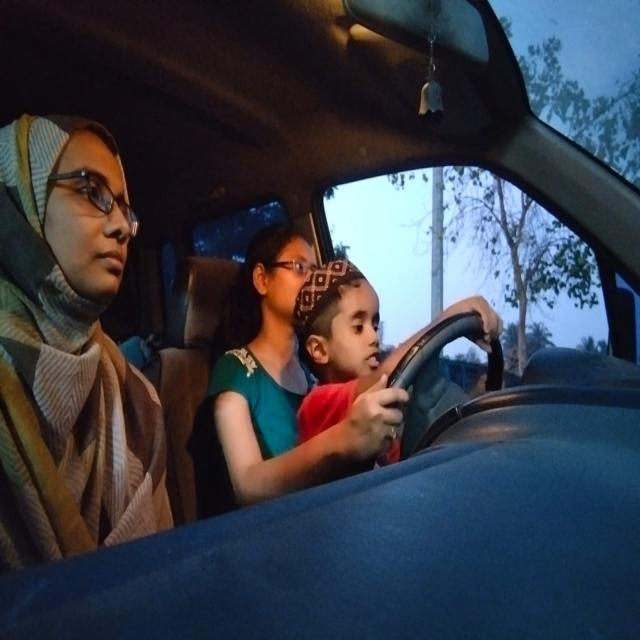child: (298, 263, 397, 392)
person: (2, 75, 151, 363), (255, 204, 325, 313)
